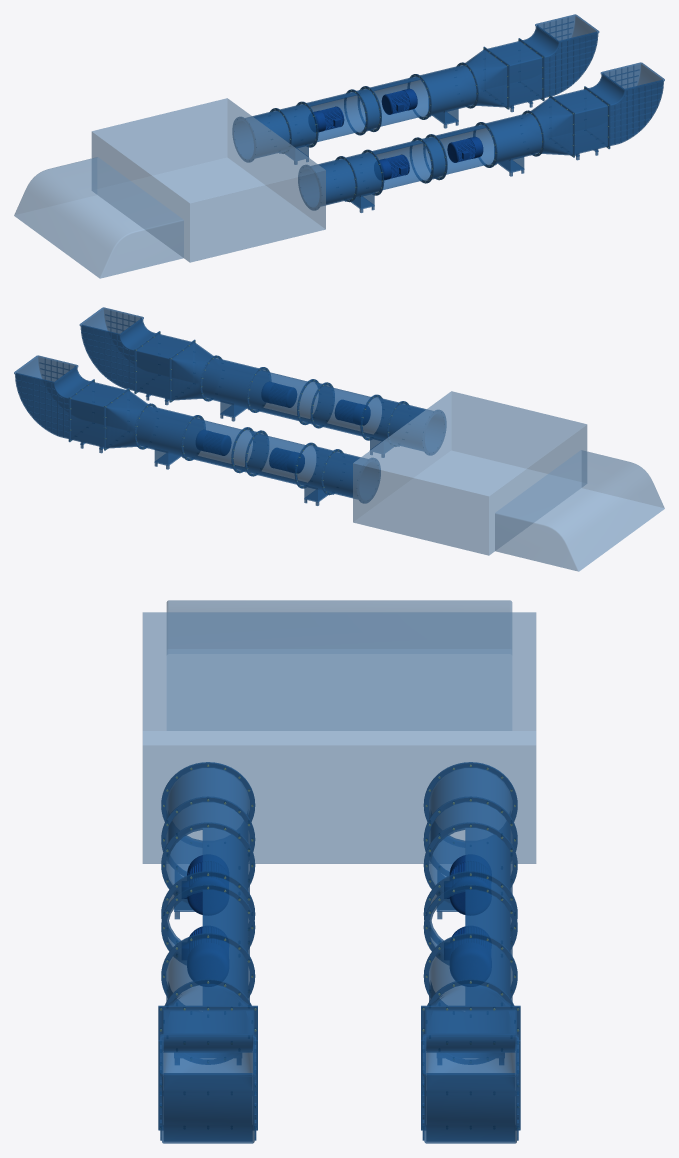
File: main1.FBX
The picture shows the model from 3 angles, top to bottom: view 1: azimuth 30°, elevation 25°; view 2: azimuth 150°, elevation 25°; view 3: azimuth 270°, elevation 25°; orthographic projection. The views are drawn at different scales.
Parts seen in each view (by area): view 1: fj-01, fj-03, fj-05, fj-08, fj-07, fj-04, fj-02; view 2: fj-03, fj-01, fj-05, fj-08, fj-04, fj-07, fj-02; view 3: fj-01, fj-03, fj-08, fj-05, fj-07, fj-04, fj-02.
Part boxes in pixels (bbox=[...]): fj-01: bbox=[14, 98, 325, 278]; fj-03: bbox=[232, 14, 664, 210]; fj-05: bbox=[447, 136, 483, 162]; fj-08: bbox=[381, 88, 417, 114]; fj-07: bbox=[308, 106, 344, 132]; fj-04: bbox=[374, 154, 409, 180]; fj-02: bbox=[270, 39, 609, 200]; fj-03: bbox=[14, 307, 446, 503]; fj-01: bbox=[353, 391, 664, 571]; fj-05: bbox=[261, 382, 296, 407]; fj-08: bbox=[196, 430, 231, 455]; fj-04: bbox=[335, 400, 370, 425]; fj-07: bbox=[269, 448, 304, 472]; fj-02: bbox=[69, 332, 408, 493]; fj-01: bbox=[142, 600, 536, 863]; fj-03: bbox=[158, 762, 520, 1143]; fj-08: bbox=[444, 926, 491, 986]; fj-05: bbox=[182, 926, 228, 986]; fj-07: bbox=[444, 854, 491, 915]; fj-04: bbox=[182, 854, 228, 915]; fj-02: bbox=[159, 764, 519, 1128].
Bounding box in the file's own units: 4168 × 443 × 1260.
Materials: 4 (1 with a texture image).
